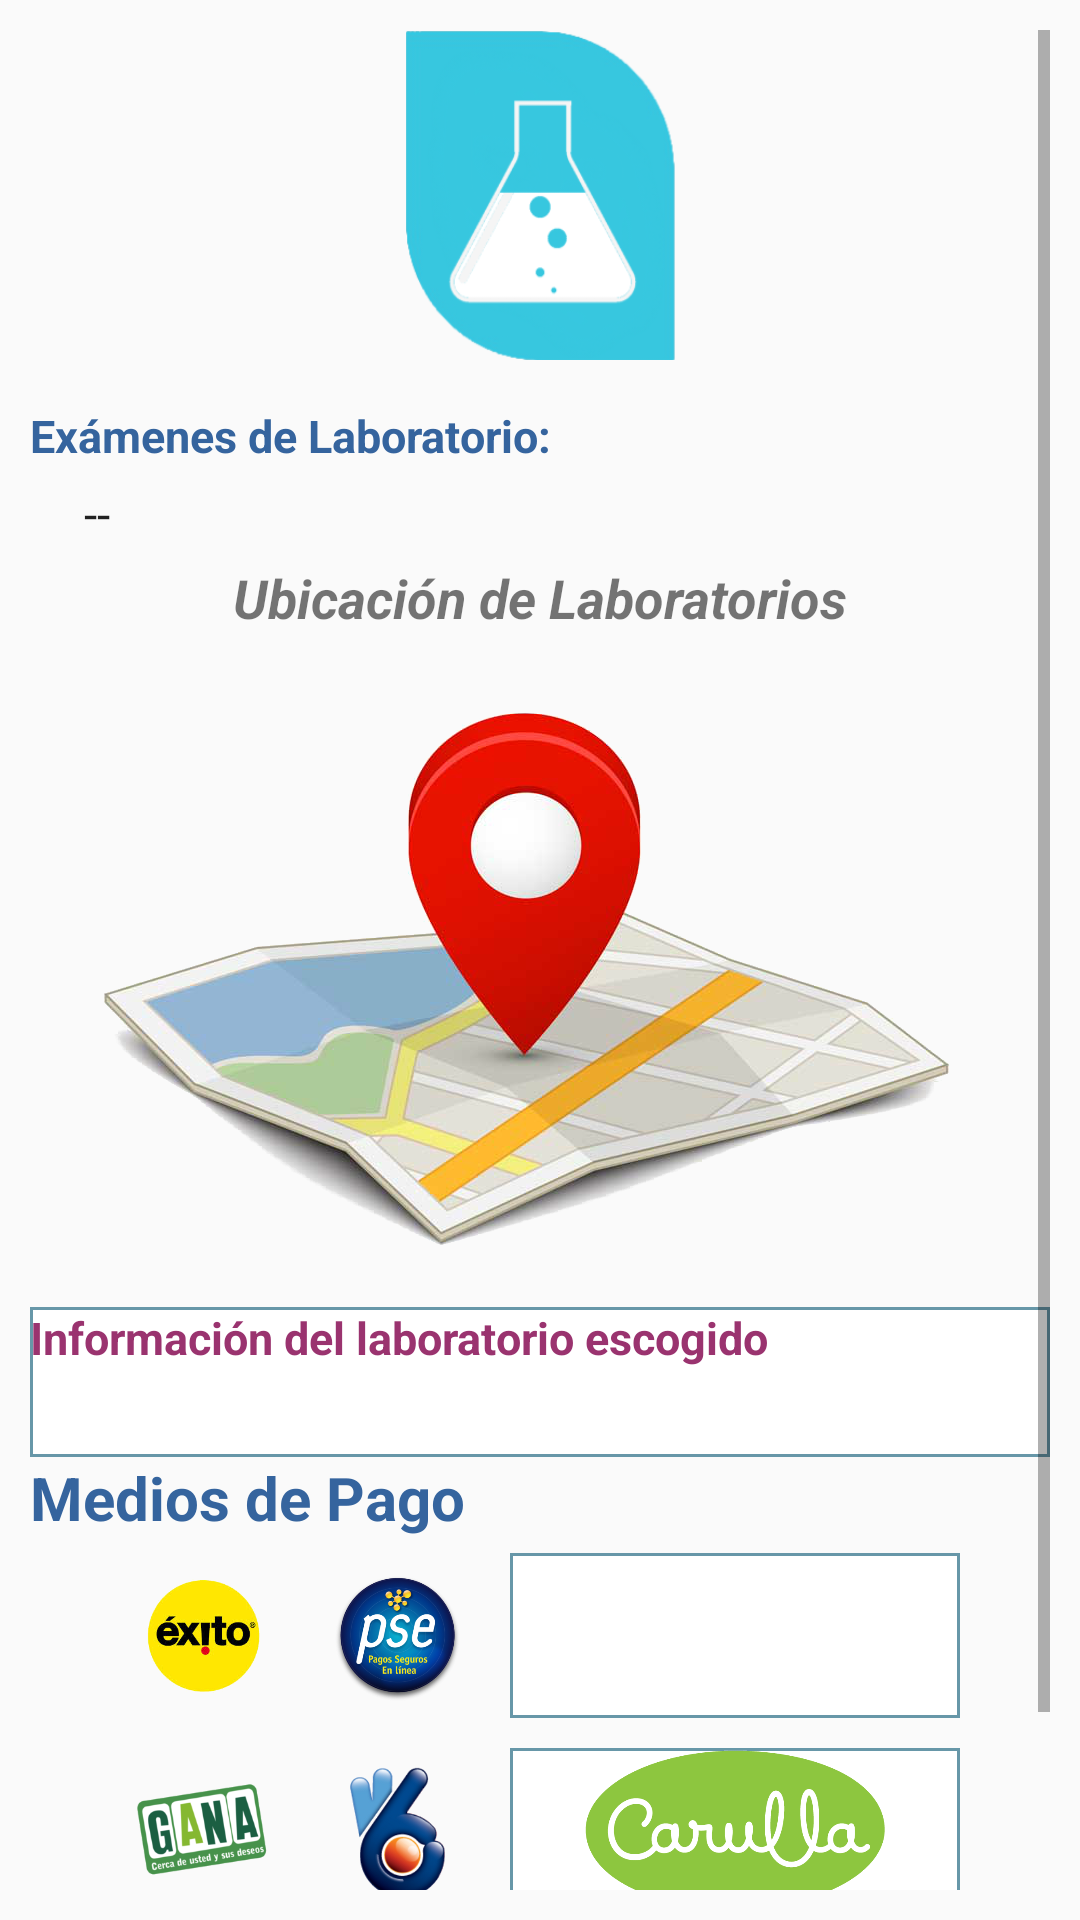

Where to tap for icons on this 1080*1920 app screen, as (x=x, y=y):
Mis Laboratorios: (x=540, y=195)
